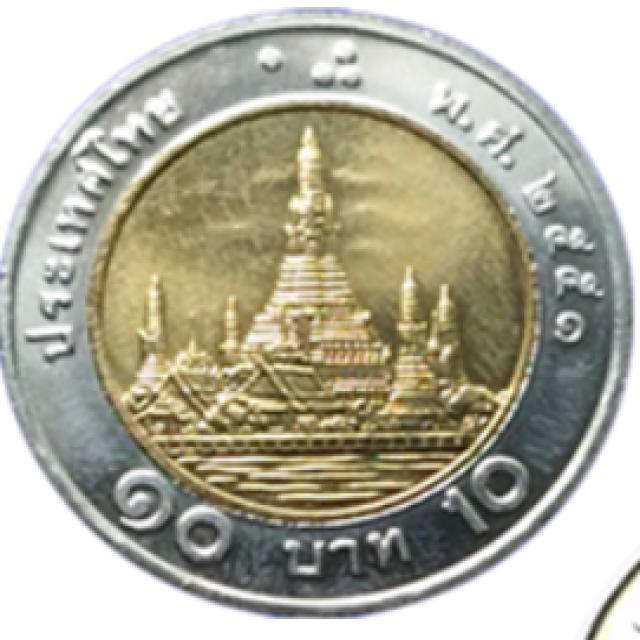10 Bath: (2, 2, 640, 624)
